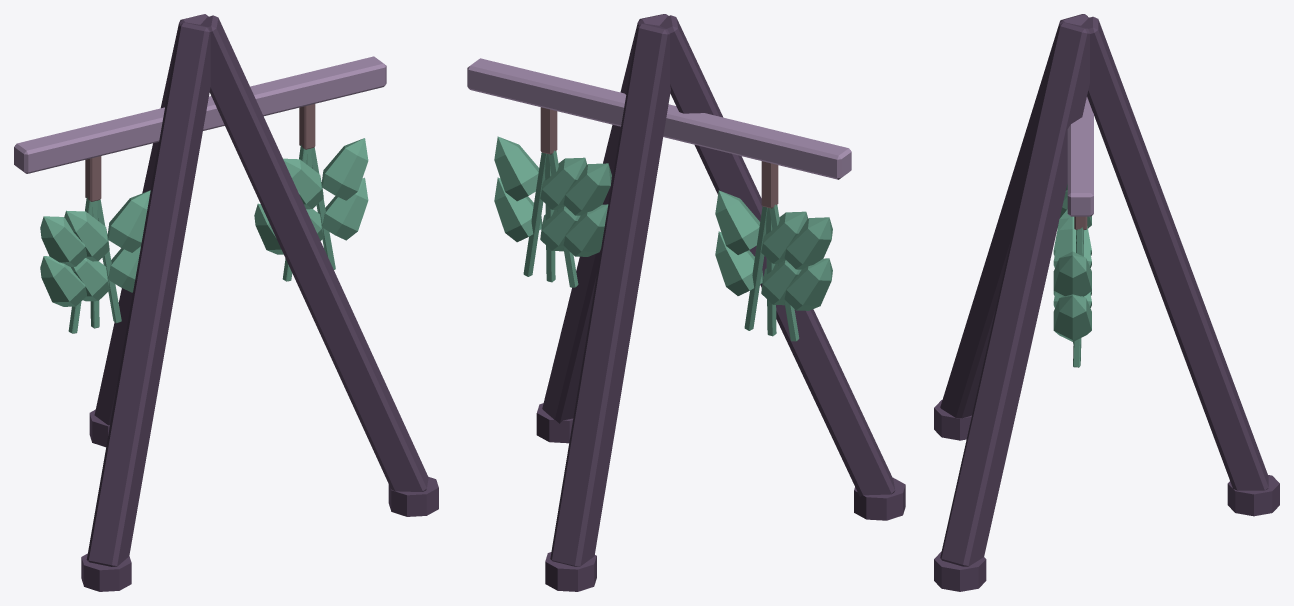
Rendered from 10_Herb_Drying_Frame.glb.
3 views of the same model, side by side, from view 1: azimuth 30°, elevation 25°; view 2: azimuth 150°, elevation 25°; view 3: azimuth 270°, elevation 25° (orthographic). The views are drawn at different scales.
Parts seen in each view (by area): view 1: 10_Herb_Drying_Frame__Body; view 2: 10_Herb_Drying_Frame__Body; view 3: 10_Herb_Drying_Frame__Body.
Boxes of the visible parts, x1,y1,x2,y2 form: 10_Herb_Drying_Frame__Body: [14, 14, 438, 591]; 10_Herb_Drying_Frame__Body: [467, 14, 905, 591]; 10_Herb_Drying_Frame__Body: [934, 14, 1279, 591].
Bounding box in the file's own units: 2.1 × 2.66 × 1.72.
Materials: 1 (1 with a texture image).
